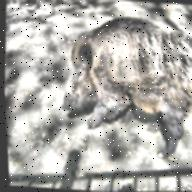boar: (41, 3, 192, 151)
